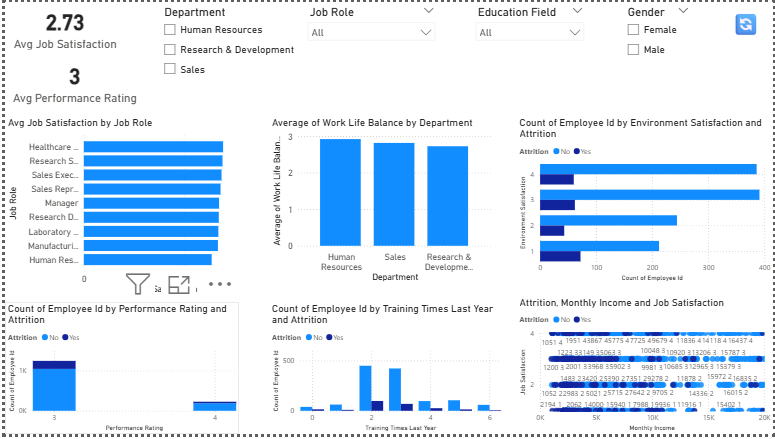

The dashboard page shown, as its layout file describes it:
{"tool":"powerbi","page":{"name":"03_Performance_Satisfaction","canvas":[1280,720],"ordinal":2},"visuals":[{"type":"card","fields":{"Values":["HR-Employee-Attrition.Avg Job Satisfaction"]},"box":[0,0,200,84],"z":0},{"type":"card","fields":{"Values":["HR-Employee-Attrition.Avg Performance Rating"]},"box":[0,84,232,92],"z":1},{"type":"slicer","fields":{"Values":["HR-Employee-Attrition.Department"]},"box":[252,0,242,156],"z":2},{"type":"slicer","fields":{"Values":["HR-Employee-Attrition.Job Role"]},"box":[494,0,232,118],"z":3},{"type":"slicer","fields":{"Values":["HR-Employee-Attrition.Gender"]},"box":[1024,0,126,118],"z":4},{"type":"slicer","fields":{"Values":["HR-Employee-Attrition.Education Field"]},"box":[774,0,200,118],"z":5},{"type":"clusteredBarChart","fields":{"Category":["HR-Employee-Attrition.Job Role"],"Y":["HR-Employee-Attrition.Avg Job Satisfaction"]},"box":[0,190,390,300],"z":7},{"type":"clusteredColumnChart","fields":{"Y":["Avg(HR-Employee-Attrition.Work Life Balance)"],"Category":["HR-Employee-Attrition.Department"]},"box":[440,190,376,280],"z":8},{"type":"columnChart","fields":{"Series":["HR-Employee-Attrition.Attrition"],"Category":["HR-Employee-Attrition.Performance Rating"],"Y":["CountNonNull(HR-Employee-Attrition.Employee Id)"]},"box":[0,500,390,220],"z":9},{"type":"clusteredColumnChart","fields":{"Category":["HR-Employee-Attrition.Training Times Last Year"],"Y":["CountNonNull(HR-Employee-Attrition.Employee Id)"],"Series":["HR-Employee-Attrition.Attrition"]},"box":[440,500,392,220],"z":10},{"type":"clusteredBarChart","fields":{"Category":["HR-Employee-Attrition.Environment Satisfaction"],"Y":["CountNonNull(HR-Employee-Attrition.Employee Id)"],"Series":["HR-Employee-Attrition.Attrition"]},"box":[852,190,428,280],"z":11},{"type":"scatterChart","fields":{"X":["HR-Employee-Attrition.Monthly Income"],"Y":["HR-Employee-Attrition.Job Satisfaction"],"Series":["HR-Employee-Attrition.Attrition"]},"box":[852,490,428,230],"z":12},{"type":"image","box":[1190,0,90,84],"z":13}]}

Visuals, with their boxes in screenshot pixels (x1, y1, x2, y2), scaled from the page's 1280x720 canvas onto the 775x439 screenshot:
card - HR-Employee-Attrition.Avg Job Satisfaction: 0 0 121 51
card - HR-Employee-Attrition.Avg Performance Rating: 0 51 140 107
slicer - HR-Employee-Attrition.Department: 153 0 299 95
slicer - HR-Employee-Attrition.Job Role: 299 0 440 72
slicer - HR-Employee-Attrition.Gender: 620 0 696 72
slicer - HR-Employee-Attrition.Education Field: 469 0 590 72
clusteredBarChart - HR-Employee-Attrition.Job Role x HR-Employee-Attrition.Avg Job Satisfaction: 0 116 236 299
clusteredColumnChart - Avg(HR-Employee-Attrition.Work Life Balance) x HR-Employee-Attrition.Department: 266 116 494 287
columnChart - HR-Employee-Attrition.Attrition x HR-Employee-Attrition.Performance Rating: 0 305 236 438
clusteredColumnChart - HR-Employee-Attrition.Training Times Last Year x CountNonNull(HR-Employee-Attrition.Employee Id): 266 305 504 438
clusteredBarChart - HR-Employee-Attrition.Environment Satisfaction x CountNonNull(HR-Employee-Attrition.Employee Id): 516 116 774 287
scatterChart - HR-Employee-Attrition.Monthly Income x HR-Employee-Attrition.Job Satisfaction: 516 299 774 438
image: 721 0 774 51
